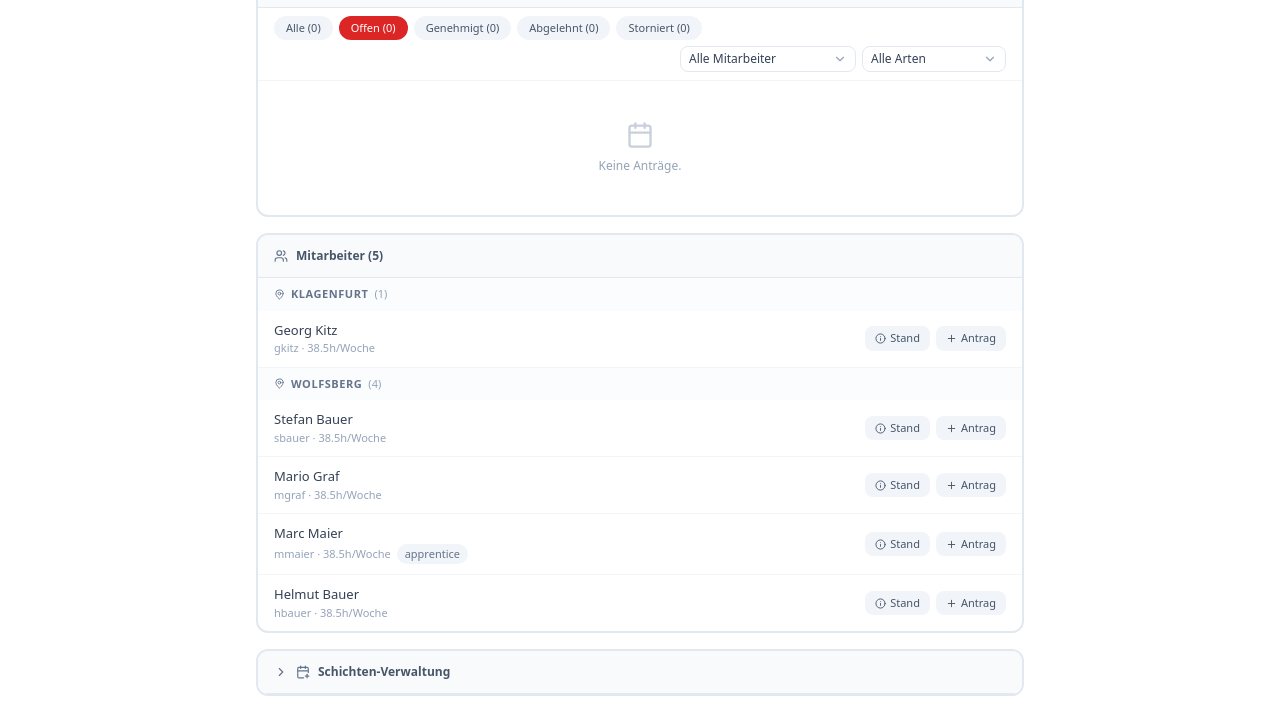
VacationPage › opens the form pre-filled with the row's employee when clicking a per-row Antrag button
This screenshot has width=1280, height=720.
(page scrolled)
Check: the text "Mario Graf" is shown, box [274, 467, 339, 485]
Click the button "Antrag" in the row of "Mario Graf" at (971, 485), box [936, 473, 1006, 497]
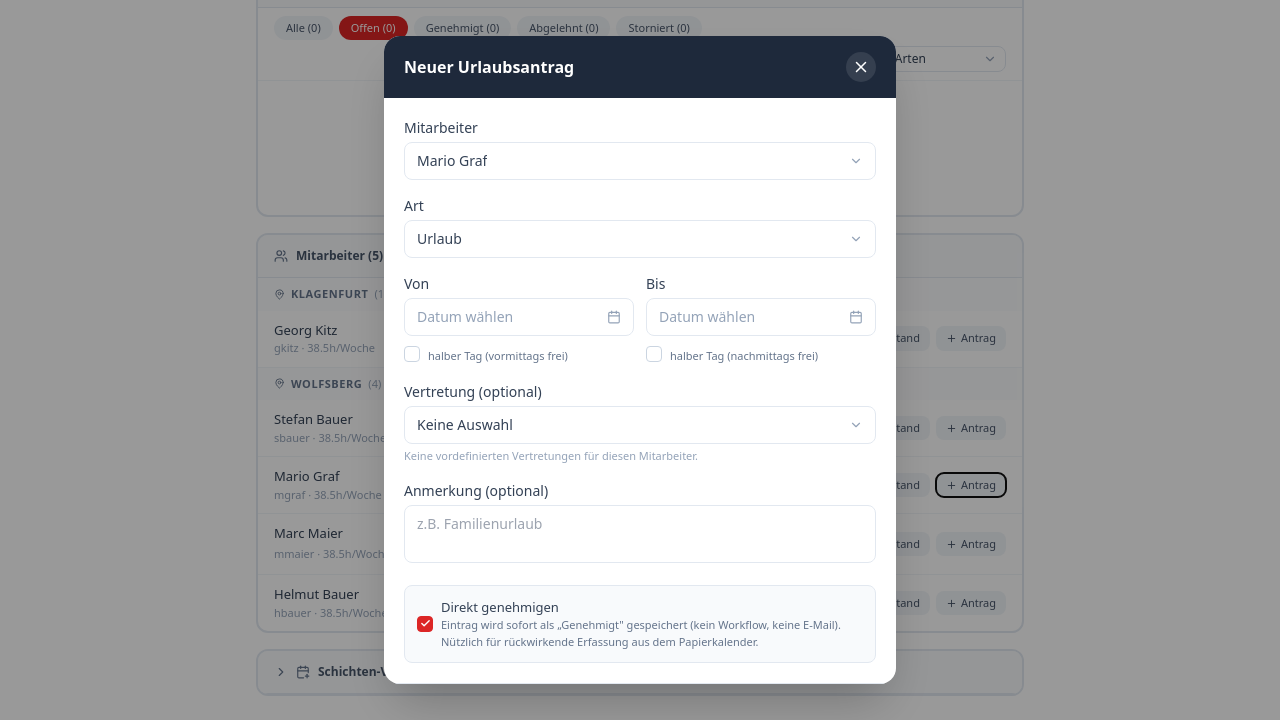
Check: the text "Neuer Urlaubsantrag" is shown, box [404, 55, 574, 79]
Check: the button with aria-label "Mitarbeiter" reads "Mario Graf", box [404, 142, 876, 180]
